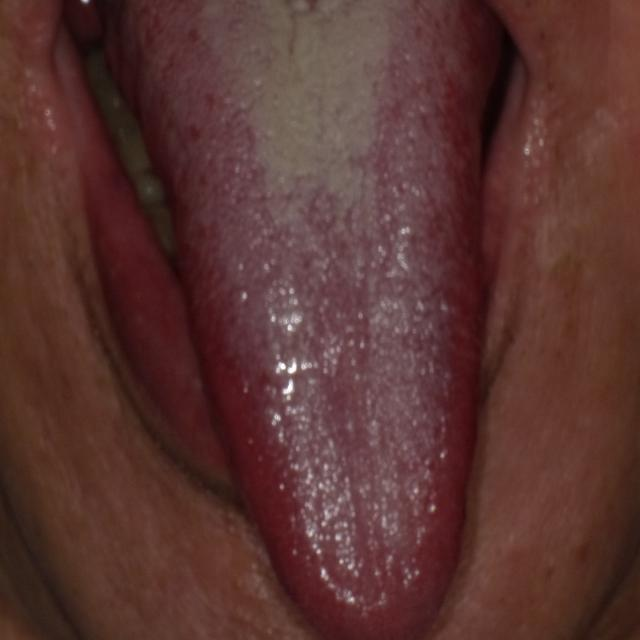hongshe: (122, 1, 491, 640)
huangtaishe: (122, 1, 491, 640)
liewenshe: (276, 1, 327, 61)
shoushe: (121, 1, 490, 640)
